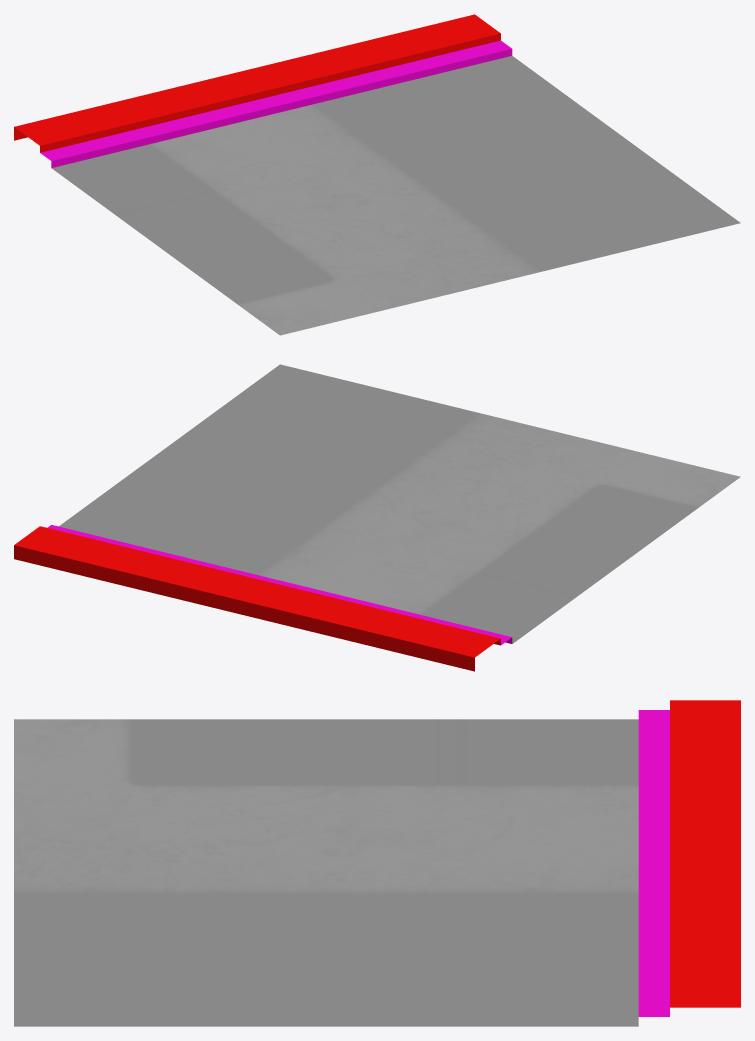
Rendered from Floor-Side.fbx.
3 views of the same model, one above another, from view 1: azimuth 30°, elevation 25°; view 2: azimuth 150°, elevation 25°; view 3: azimuth 270°, elevation 25° (orthographic). The views are drawn at different scales.
Visible parts, largest first — view 1: Side; view 2: Side; view 3: Side.
Boxes of the visible parts, x1=… form: Side: x1=14, y1=14, x2=740, y2=335; Side: x1=14, y1=364, x2=740, y2=671; Side: x1=14, y1=700, x2=740, y2=1026.
Bounding box in the file's own units: 78.74 × 2.28 × 78.74.
Materials: 3 (1 with a texture image).
